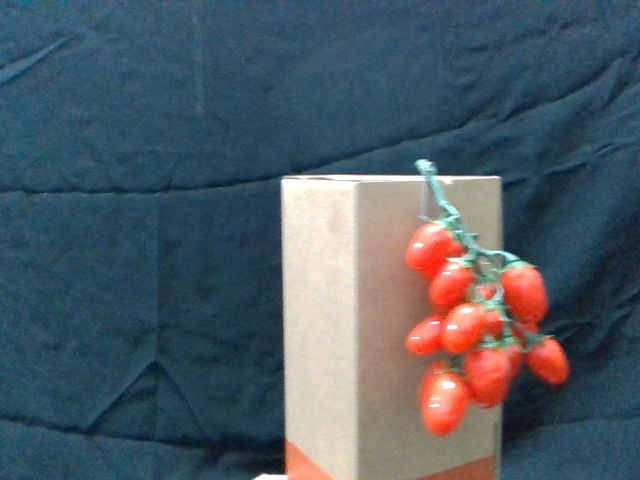tomato: (504, 254, 549, 319), (407, 215, 455, 273), (522, 333, 571, 389), (446, 301, 496, 354), (426, 374, 466, 439), (467, 349, 510, 408), (429, 258, 475, 310), (403, 312, 451, 357)
